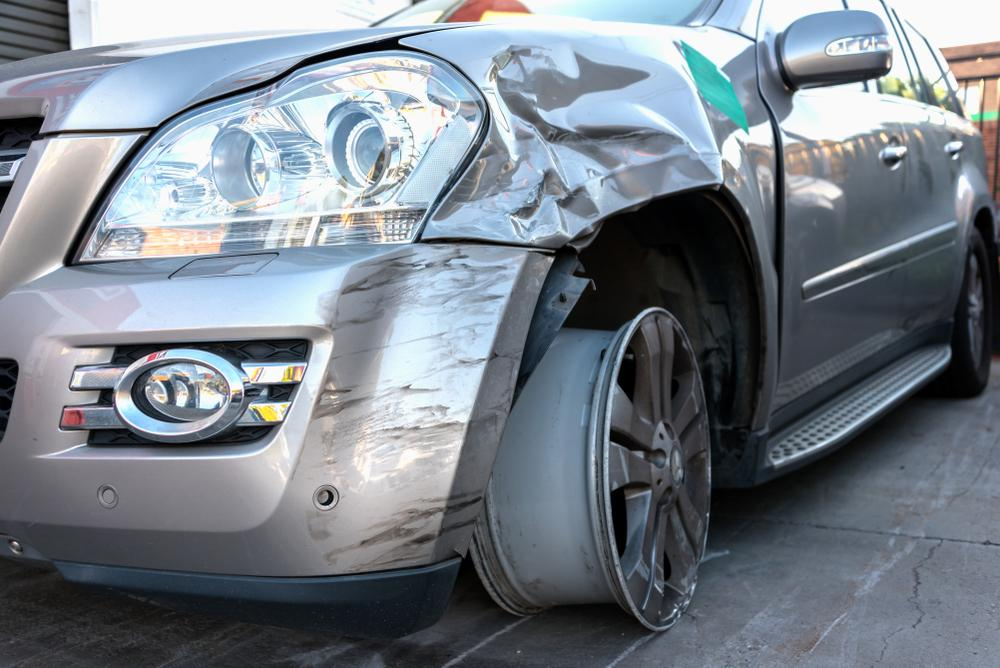dent: (435, 36, 724, 240)
scratch: (303, 242, 552, 575)
